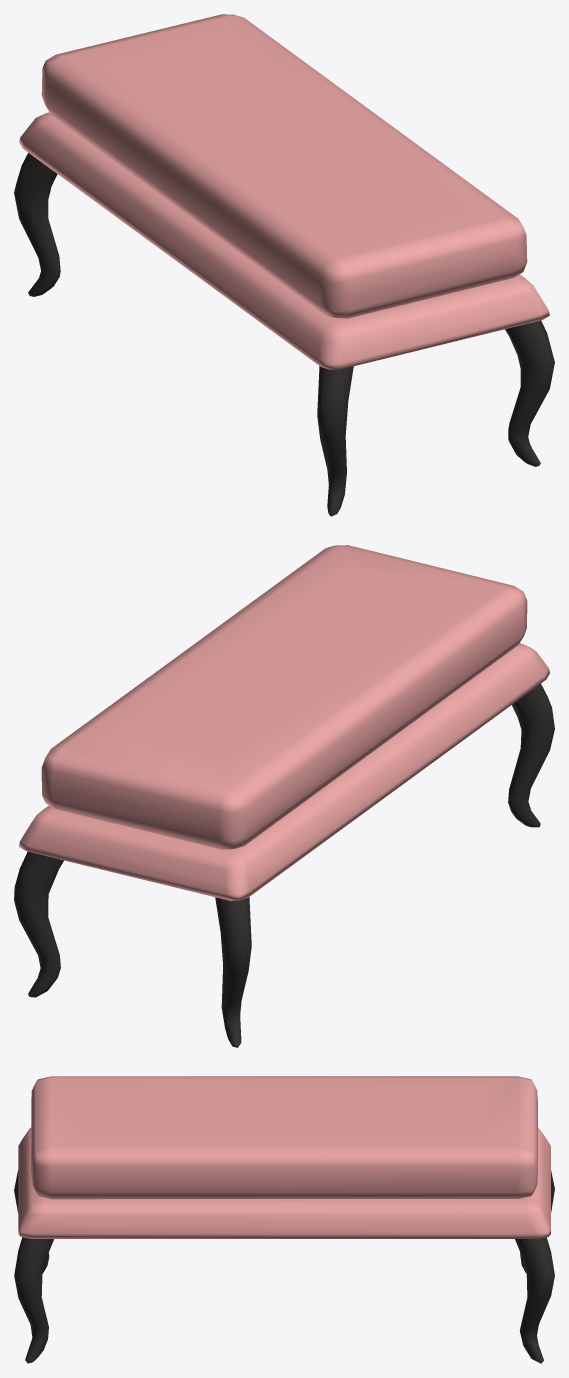
File: footstool_01_pink.fbx
3 views of the same model, one above another, from view 1: azimuth 30°, elevation 25°; view 2: azimuth 150°, elevation 25°; view 3: azimuth 270°, elevation 25° (orthographic). The views are drawn at different scales.
Visible parts, largest first — view 1: footstool_01_pink; view 2: footstool_01_pink; view 3: footstool_01_pink.
Boxes of the visible parts, x1,y1,x2,y2 form: footstool_01_pink: (14, 14, 554, 516); footstool_01_pink: (14, 545, 554, 1047); footstool_01_pink: (14, 1076, 554, 1363).
Size of the model in its own units: 46.53 by 46.52 by 109.
Materials: 2 (2 with a texture image).
